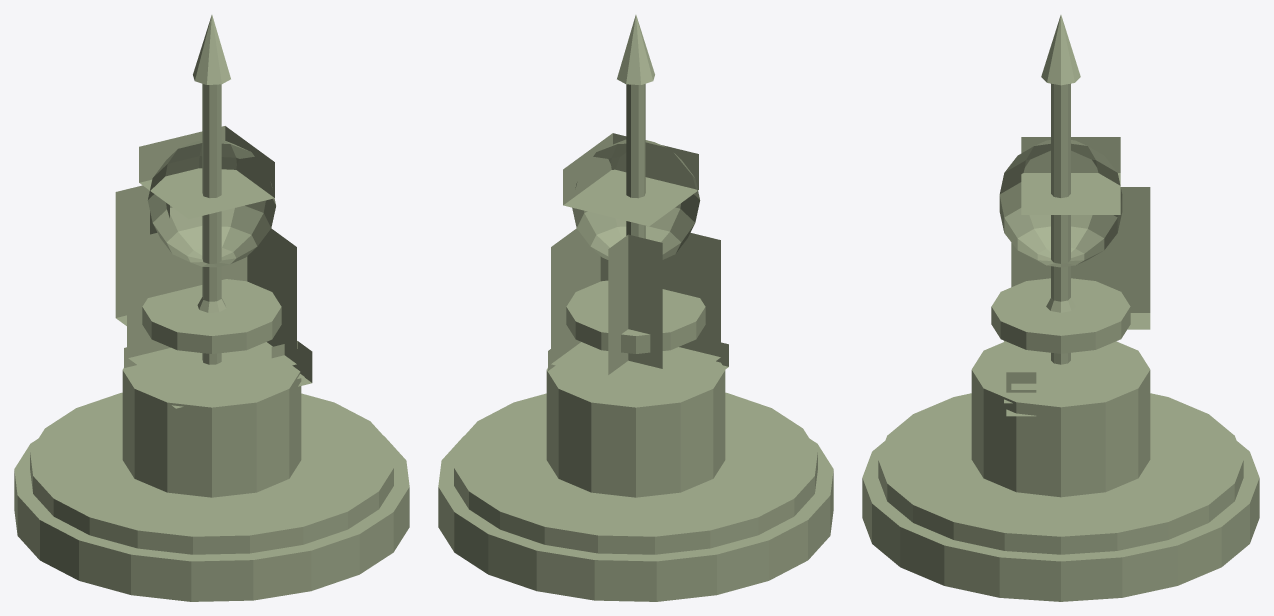
Rendered from monster_skirmisher_pawn.glb.
3 views of the same model, side by side, from view 1: azimuth 30°, elevation 25°; view 2: azimuth 150°, elevation 25°; view 3: azimuth 270°, elevation 25° (orthographic).
Visible parts, largest first — view 1: SkirmisherPawn_Node; view 2: SkirmisherPawn_Node; view 3: SkirmisherPawn_Node.
Boxes of the visible parts, box(x1,y1,x2,y2) form: SkirmisherPawn_Node: box(14, 15, 409, 601); SkirmisherPawn_Node: box(438, 15, 833, 601); SkirmisherPawn_Node: box(862, 15, 1259, 601).
Size of the model in its own units: 0.8 by 1.12 by 0.8.
